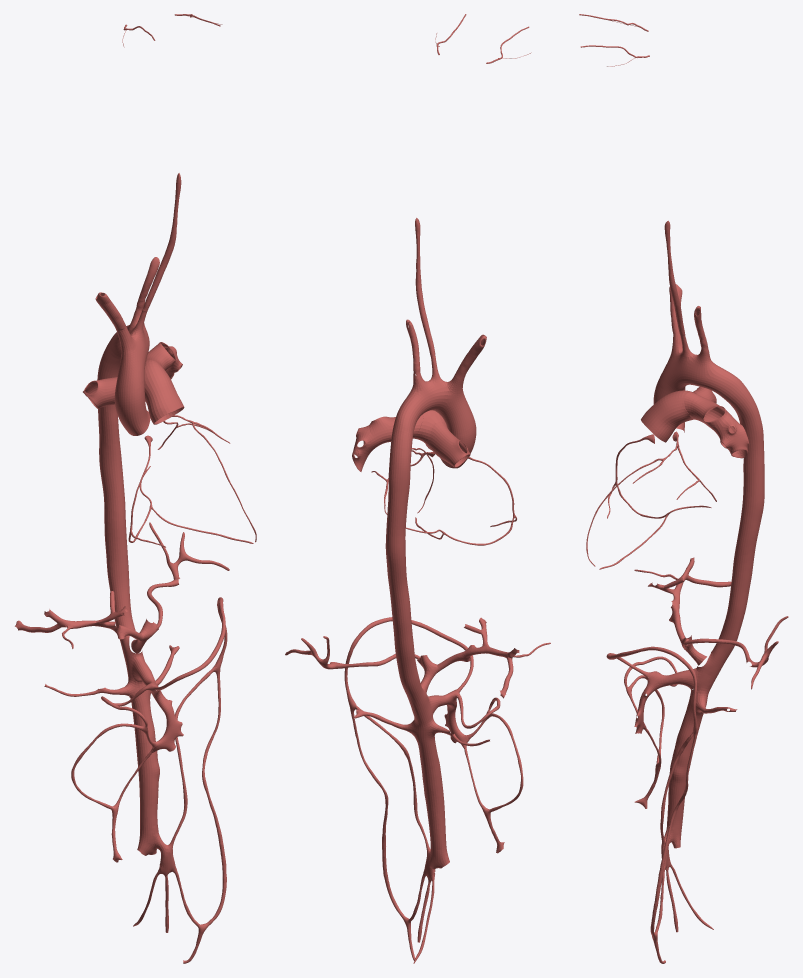
Rendered from trunk_arteries.glb.
The picture shows the model from 3 angles, left to right: view 1: azimuth 30°, elevation 25°; view 2: azimuth 150°, elevation 25°; view 3: azimuth 270°, elevation 25°; orthographic projection. The views are drawn at different scales.
Visible parts, largest first — view 1: trunk_arteries; view 2: trunk_arteries; view 3: trunk_arteries.
Part boxes in pixels (x1,y1,x2,y2): trunk_arteries: (15, 14, 256, 963); trunk_arteries: (285, 14, 550, 963); trunk_arteries: (579, 14, 788, 963).
Size of the model in its own units: 0.1711 by 0.712 by 0.1475.
